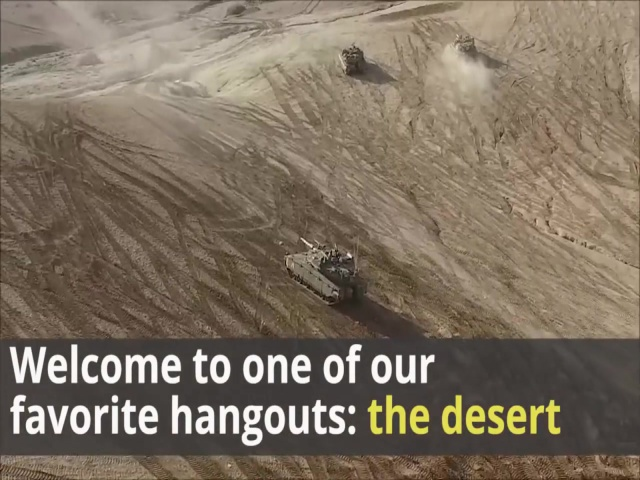vehicle: (284, 243, 368, 307), (338, 44, 369, 78), (451, 34, 479, 66)
